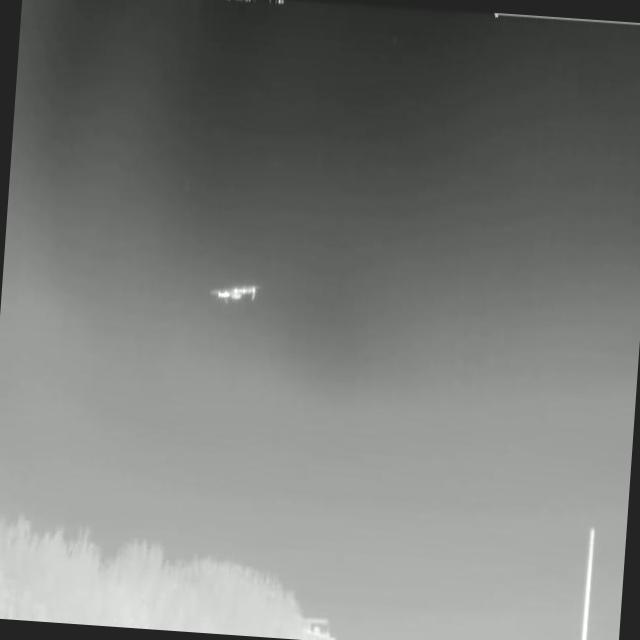DRONE: (203, 274, 266, 318)
